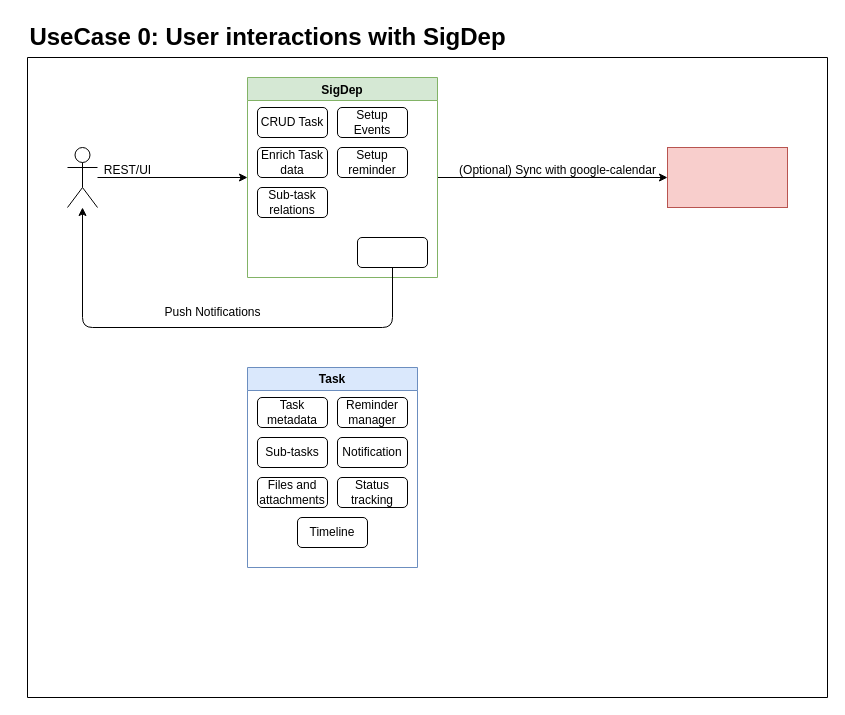
This 845x715 diagram has some shape labels left out. Here are the shapes that lost their labels. From the top down, the box of each, then its label:
(66, 146, 98, 208): User
(666, 146, 788, 208): Google Calendar API
(356, 236, 428, 268): Push Alerts
